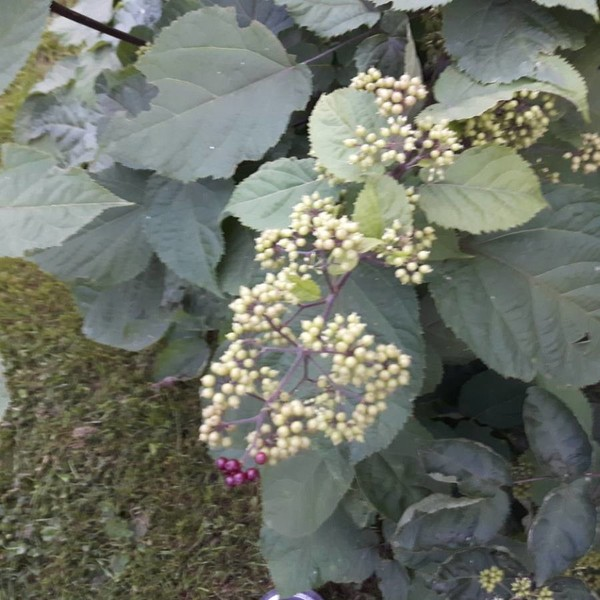obstacle: (212, 61, 530, 468), (37, 5, 237, 285), (438, 226, 595, 576)
